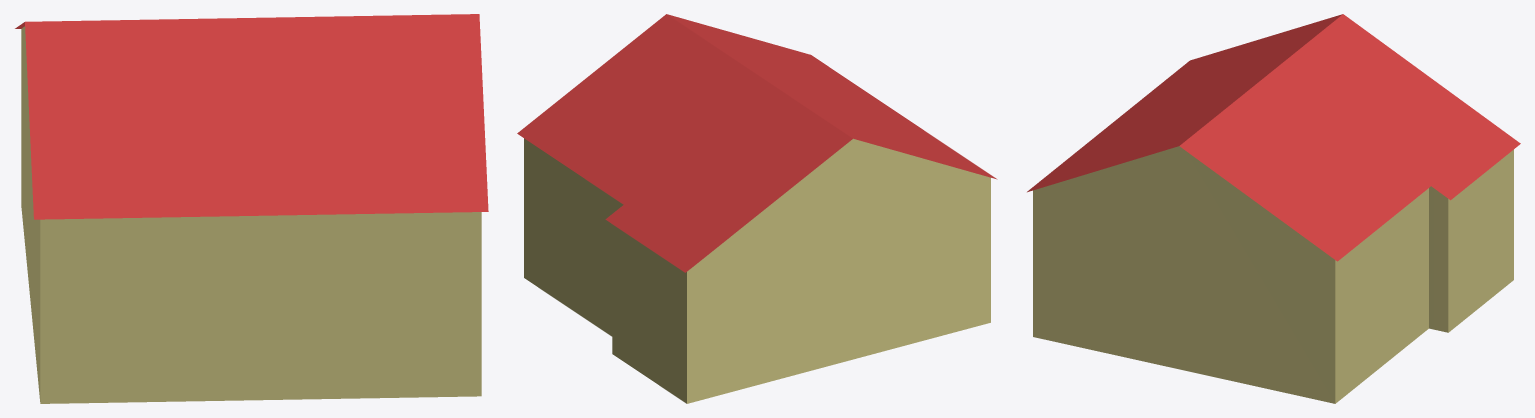
The picture shows the model from 3 angles, left to right: view 1: azimuth 30°, elevation 25°; view 2: azimuth 150°, elevation 25°; view 3: azimuth 270°, elevation 25°; orthographic projection. The views are drawn at different scales.
Size of the model in its own units: 23.13 by 24.05 by 12.11.
